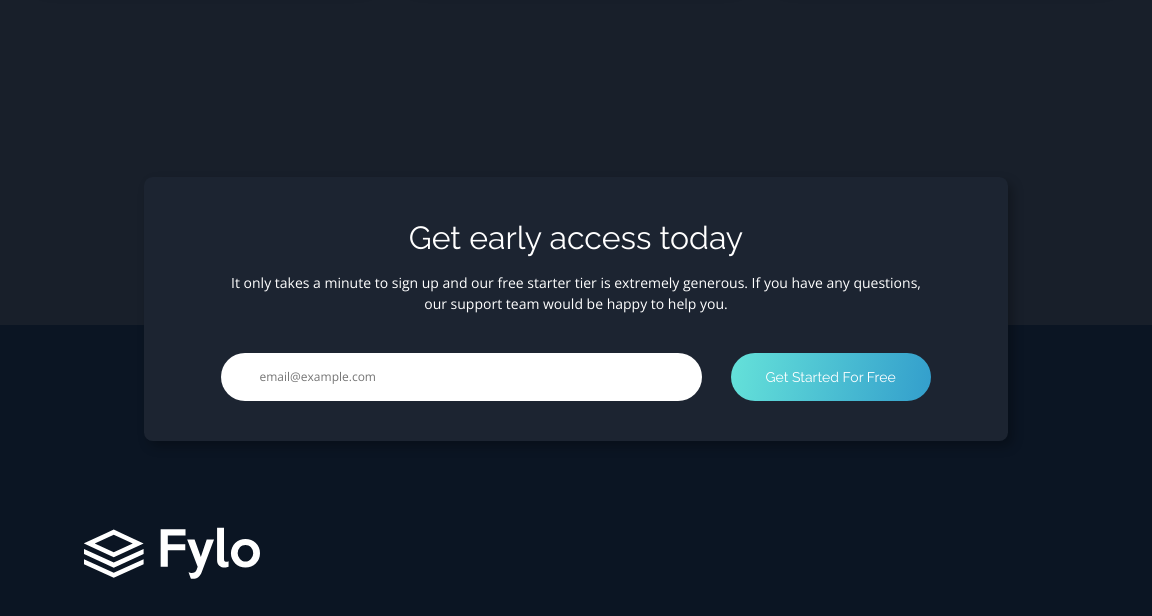
Test: Fylo landing page › gives honest confirmation for a valid demo submission
(page scrolled)
Type "person@example.com" into the field named "Email address". click: [462, 376]
box: [221,352,702,400]
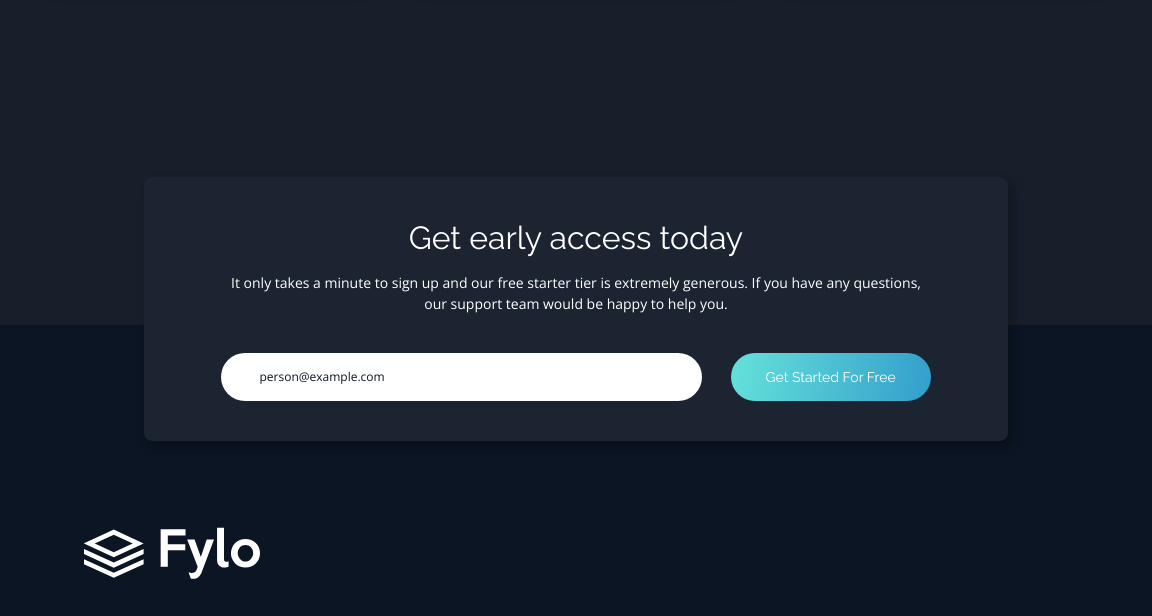
Click the button "Get Started For Free". click: [831, 376]
box: [731,352,931,400]
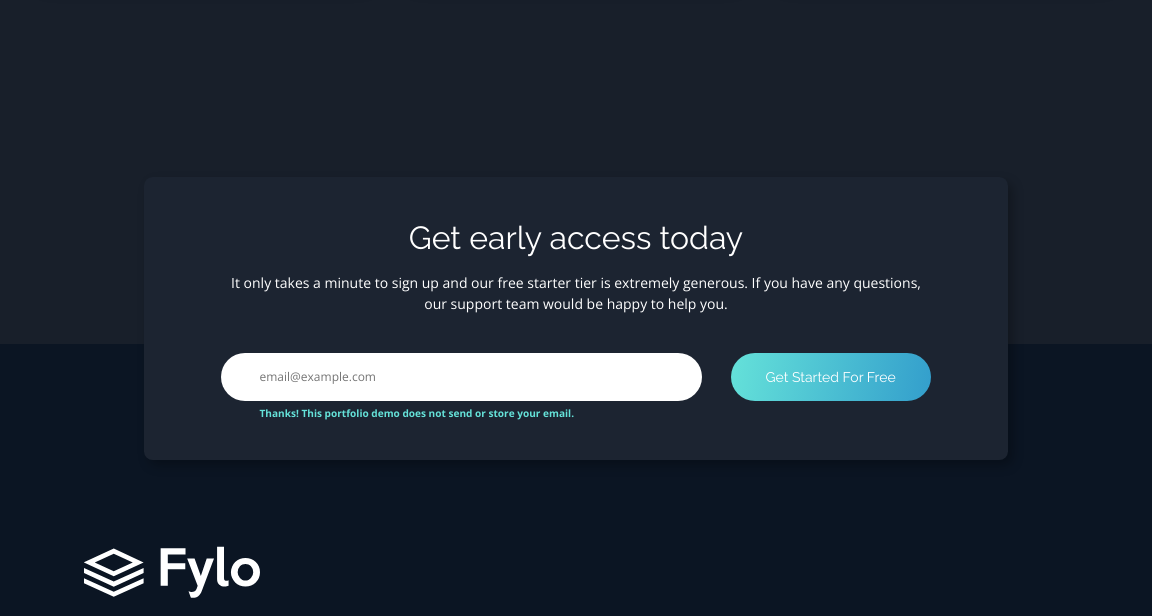
Check: the message shows "does not send or store your email", box [260,406,574,420]
